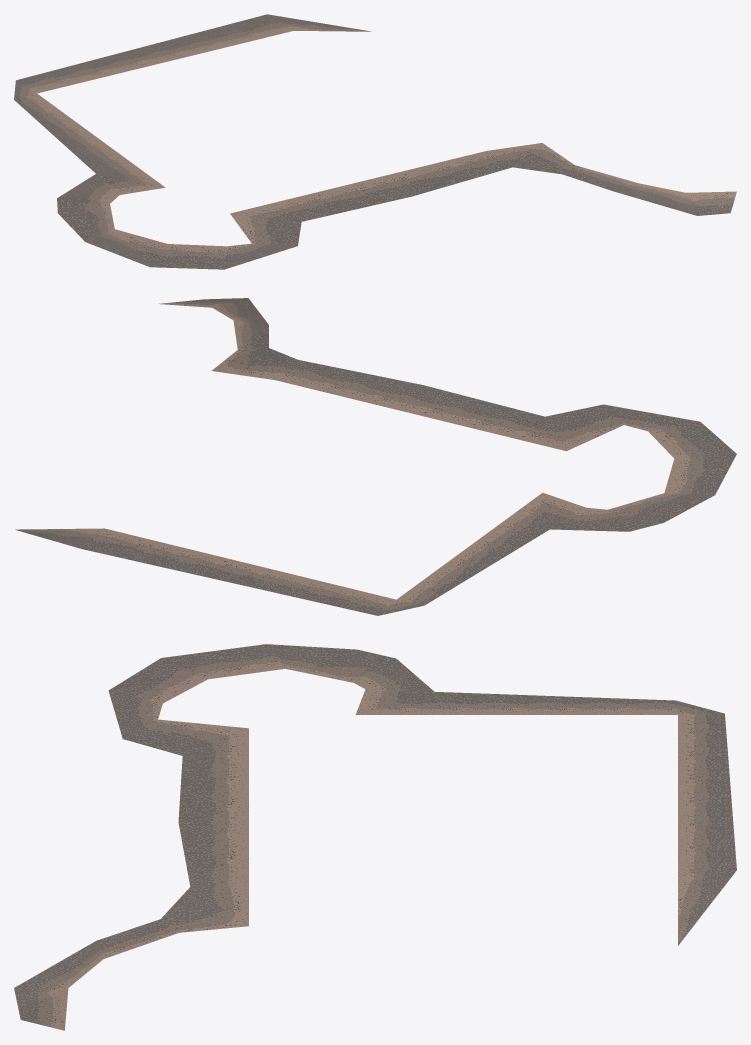
The model's file is kd_stage_135ded_4_128.glb.
3 renders of one model, top to bottom at view 1: azimuth 30°, elevation 25°; view 2: azimuth 150°, elevation 25°; view 3: azimuth 270°, elevation 25°, orthographic. The views are drawn at different scales.
Parts seen in each view (by area): view 1: kd_stage_135ded_4_128; view 2: kd_stage_135ded_4_128; view 3: kd_stage_135ded_4_128.
Part boxes in pixels (bbox=[...]): kd_stage_135ded_4_128: bbox=[14, 14, 736, 269]; kd_stage_135ded_4_128: bbox=[15, 298, 736, 615]; kd_stage_135ded_4_128: bbox=[14, 644, 736, 1030].
Size of the model in its own units: 2.6 by 0.1498 by 2.28.
1 material, 1 textured.
